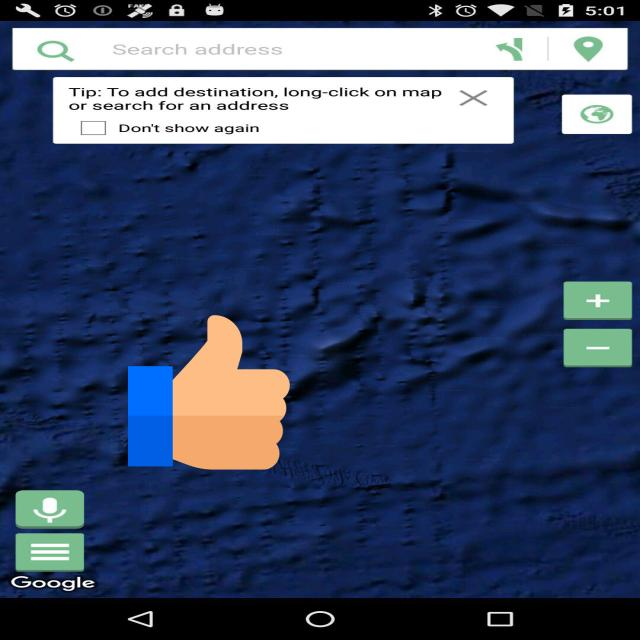privacy zuckering: (128, 312, 290, 474)
